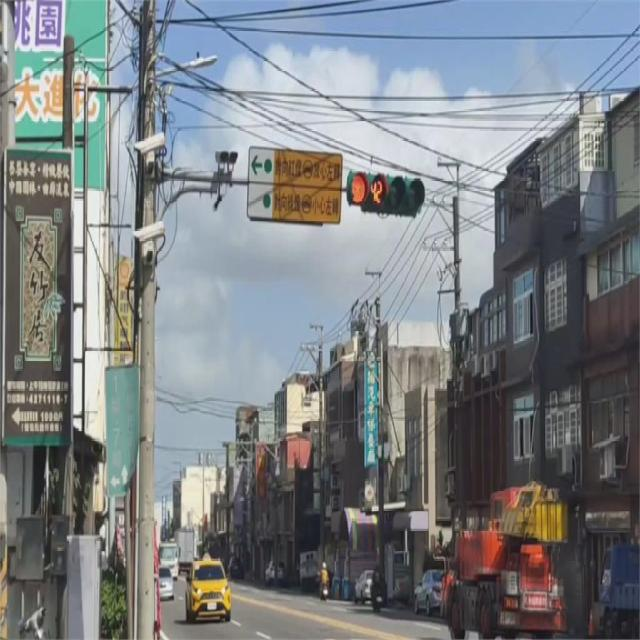red light: (346, 170, 426, 218)
